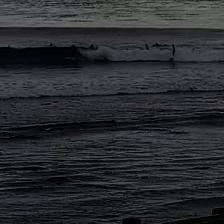surfer: (70, 45, 78, 57), (153, 43, 168, 48), (172, 44, 176, 55), (89, 44, 97, 48), (49, 43, 55, 47), (144, 44, 148, 50), (8, 46, 10, 48)
